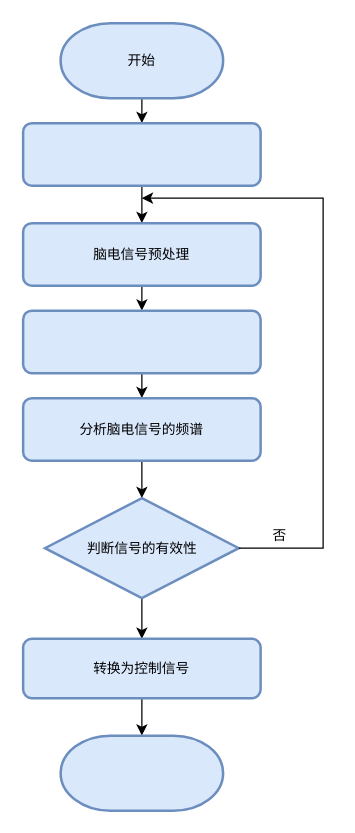
The diagram is 355 pixels wide and 833 high, and some of its shapes have lost their labels. The shapes that lost their labels are listed below. From the top down, each one's centre as x and y in pixels, then its label:
At (x=141, y=153): "接收脑电数据".
At (x=141, y=341): "脑电信号处理，匹配".
At (x=141, y=772): "结束".
